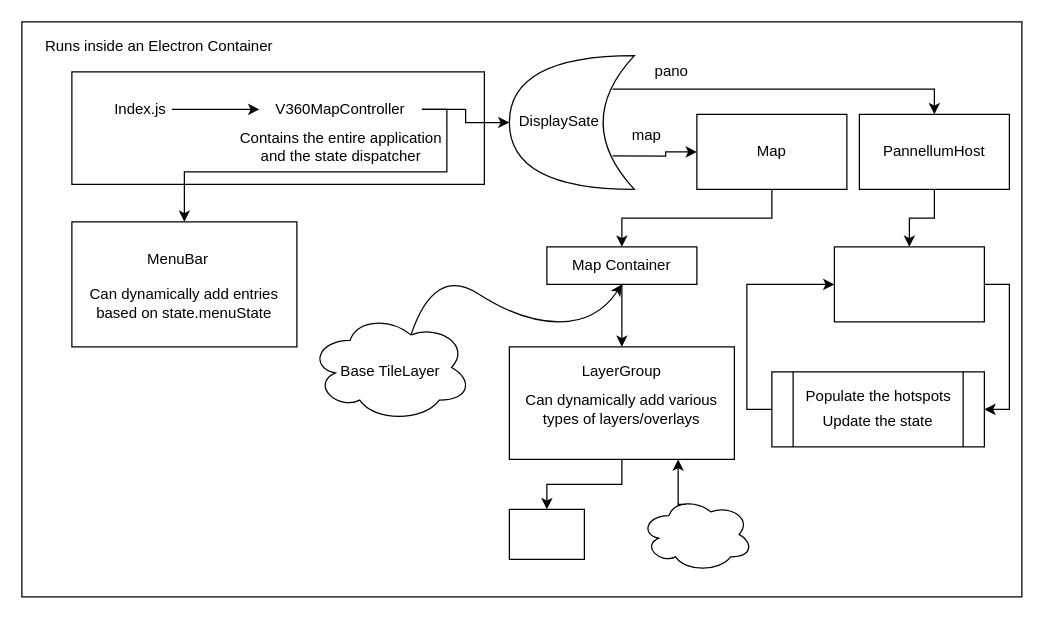
Image size: 1044x619. Some labels were removed from this diagram. The shapes that lost their labels are listed below. From the top down, each one's centre as x and y in pixels, then its label:
[908,284]: Pannellum
[546,533]: JSONs
[696,534]: Other Tiles
